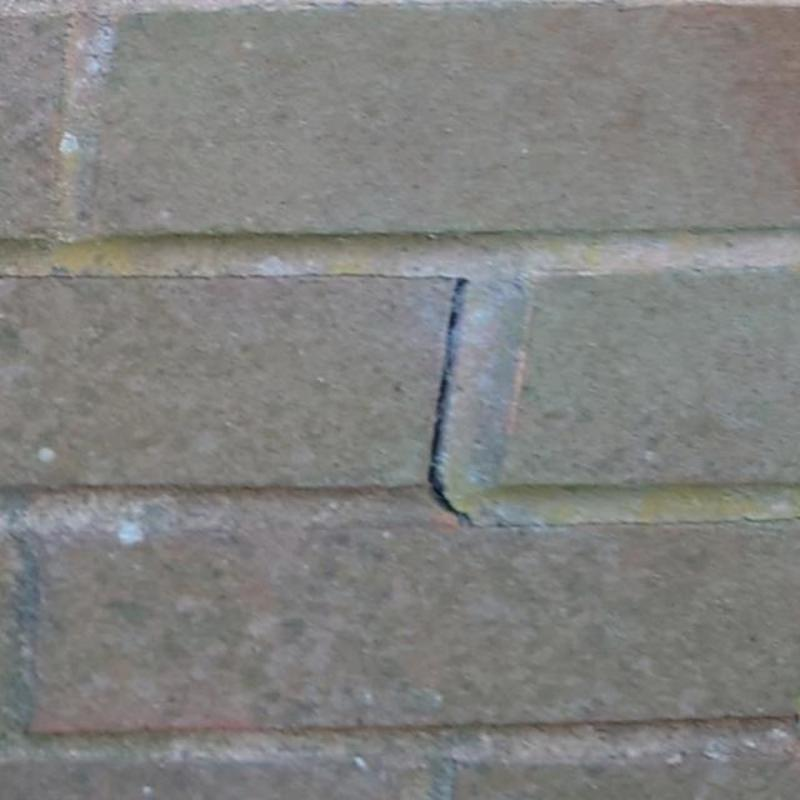crack: (430, 278, 470, 522), (0, 269, 460, 282), (469, 512, 799, 530)
